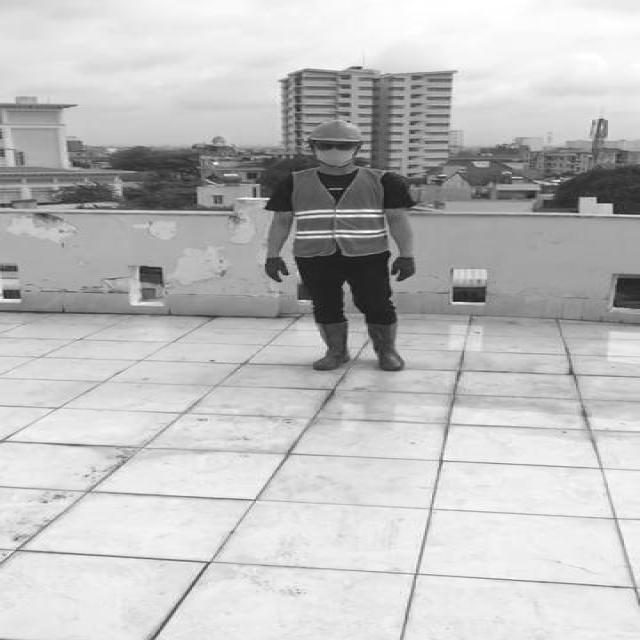boots: (310, 321, 348, 370), (369, 323, 404, 374)
face_mask: (311, 140, 361, 166)
glasses: (312, 140, 358, 151)
hand_glove: (262, 256, 292, 282), (389, 256, 418, 282)
head_helmet: (257, 120, 424, 368), (306, 120, 371, 142)
vest: (294, 167, 389, 260)
